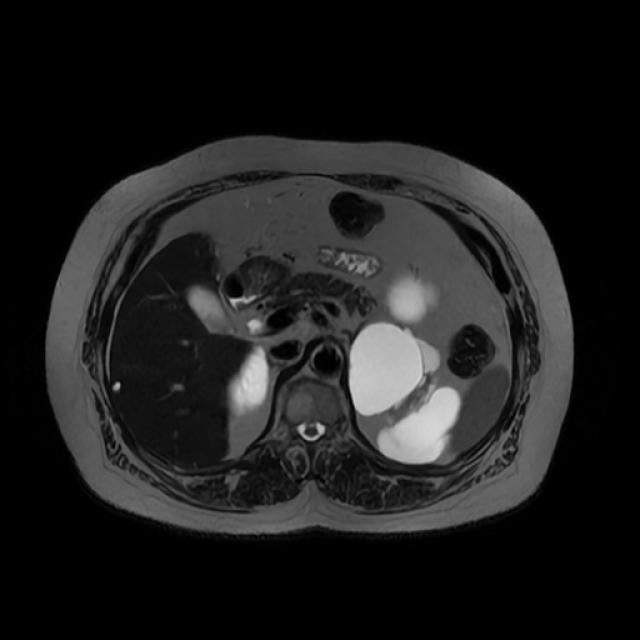sag: (227, 345, 269, 419)
sol: (348, 275, 461, 466)
